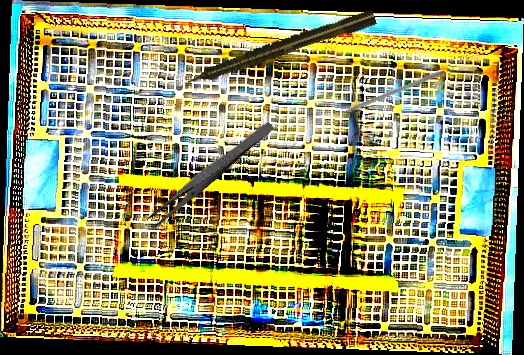Dressing Forceps: (144, 116, 276, 231)
Handpiece: (181, 7, 378, 92)
Pusher: (327, 69, 442, 121)
